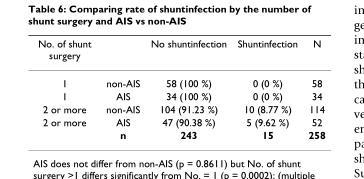table: (37, 37, 324, 140)
table column: (144, 37, 231, 140), (231, 37, 302, 140), (37, 37, 97, 140), (97, 37, 144, 140), (302, 37, 324, 140)
table column header: (37, 37, 324, 68)
table row: (37, 37, 324, 68), (37, 68, 324, 89), (37, 89, 324, 102), (37, 102, 324, 115), (37, 115, 324, 128), (37, 128, 324, 140)
table spanning cell: (37, 115, 97, 140)
